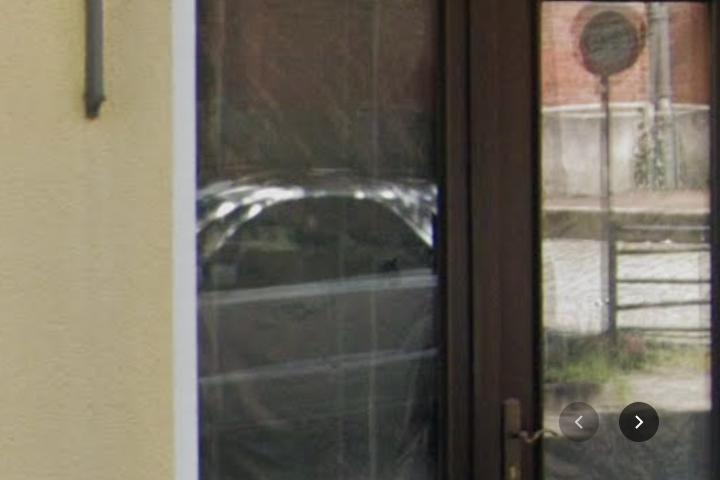google_maps: (618, 401, 659, 442), (559, 402, 599, 442)
traffic_sign: (573, 11, 643, 81)
